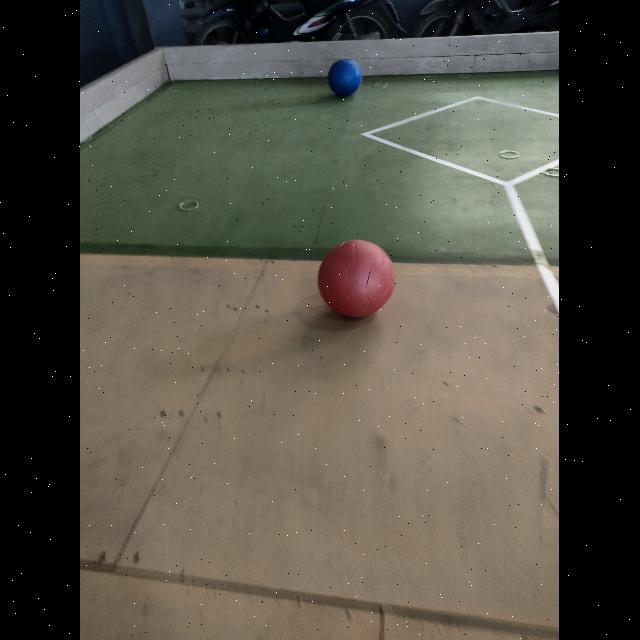B: (329, 59, 363, 97)
R: (319, 240, 396, 317)
